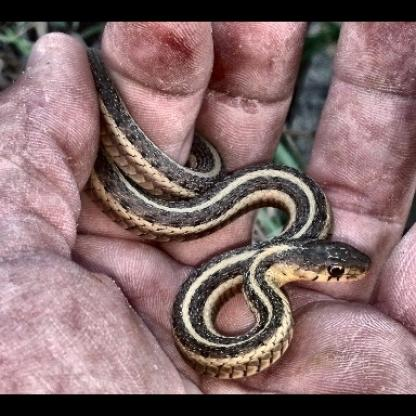Snake: (83, 56, 372, 381)
